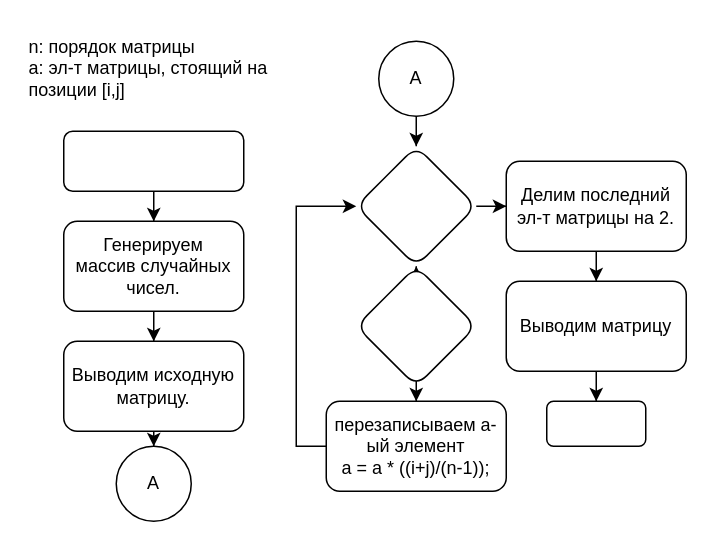
The diagram is 713 pixels wide and 548 high, and some of its shapes have lost their labels. Here are the shapes that lost their labels. From the top down, the centre of each, then its label:
the point at 153,160: Начало
the point at 415,205: от i до m с шагом 1
the point at 415,325: от j до n с шагом 1
the point at 595,423: Конец
